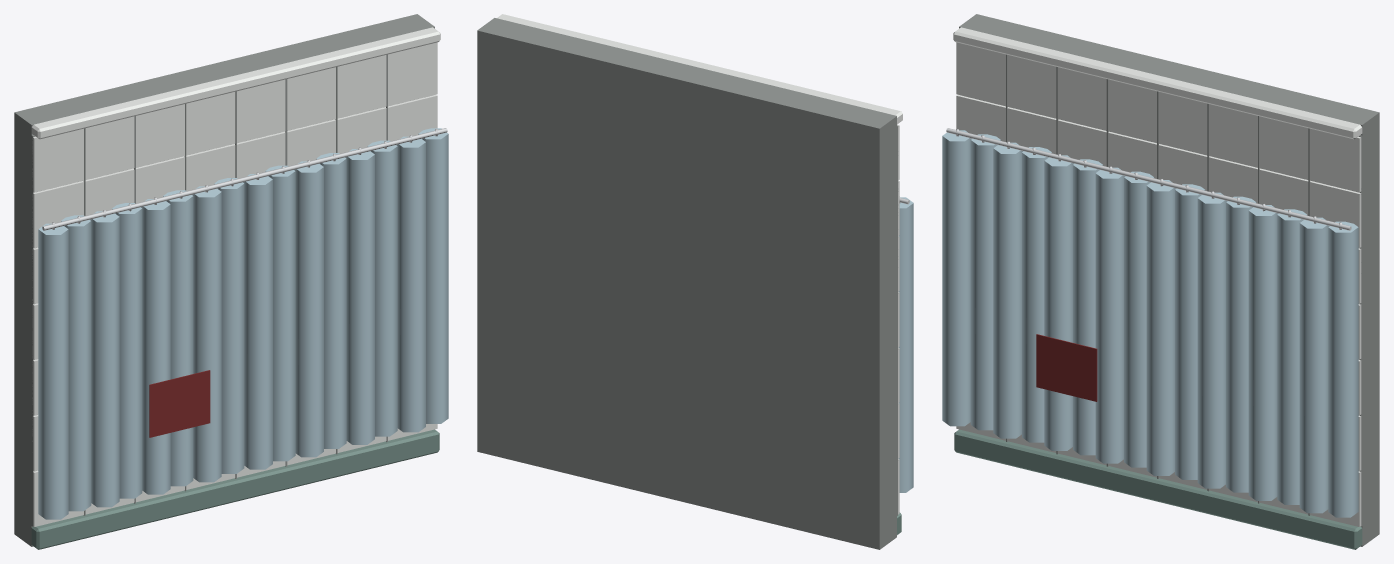
File: wall_hs_curtain.glb
3 renders of one model, left to right at view 1: azimuth 30°, elevation 25°; view 2: azimuth 150°, elevation 25°; view 3: azimuth 330°, elevation 25°, orthographic.
Parts seen in each view (by area): view 1: wall_hs_curtain; view 2: wall_hs_curtain; view 3: wall_hs_curtain.
Part boxes in pixels (bbox=[...]): wall_hs_curtain: bbox=[14, 14, 448, 549]; wall_hs_curtain: bbox=[477, 14, 913, 549]; wall_hs_curtain: bbox=[942, 14, 1379, 549].
Bounding box in the file's own units: 4.03 × 4 × 0.65.
